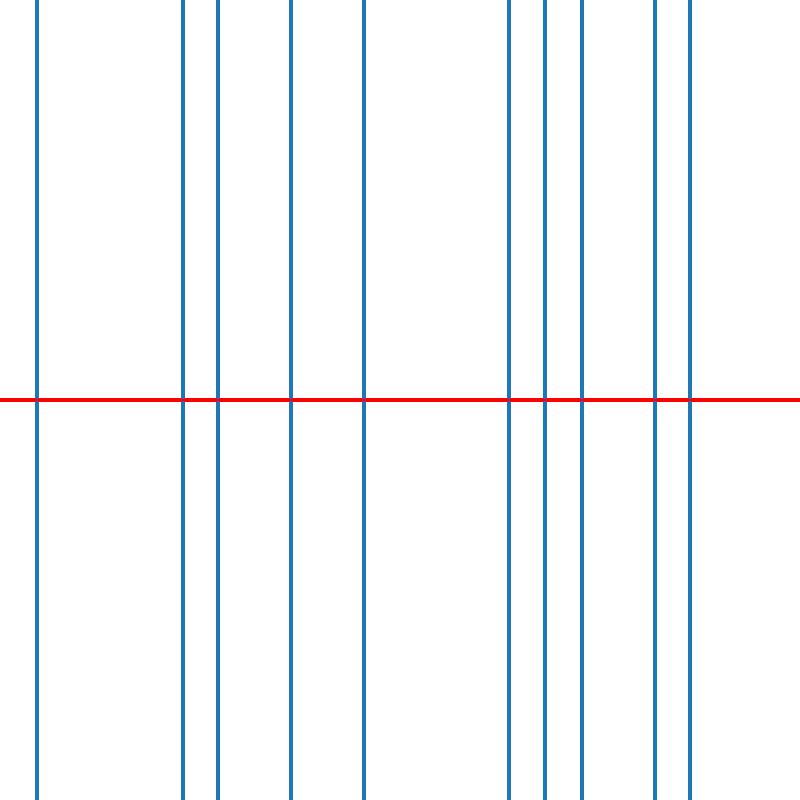root: (650, 396, 658, 404), (541, 396, 549, 404), (32, 396, 40, 404), (578, 396, 585, 404), (360, 396, 367, 404), (687, 396, 694, 404), (287, 396, 294, 404), (505, 396, 512, 404), (178, 396, 185, 404), (214, 396, 221, 404)
